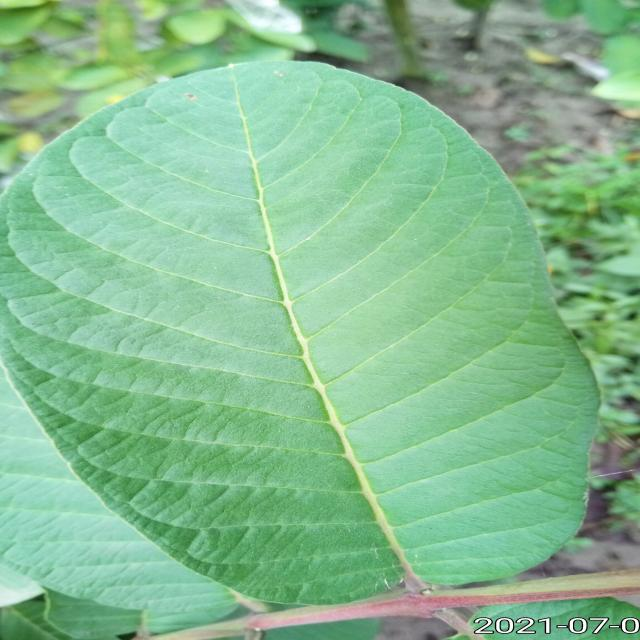Disease Free: (2, 61, 596, 604)
